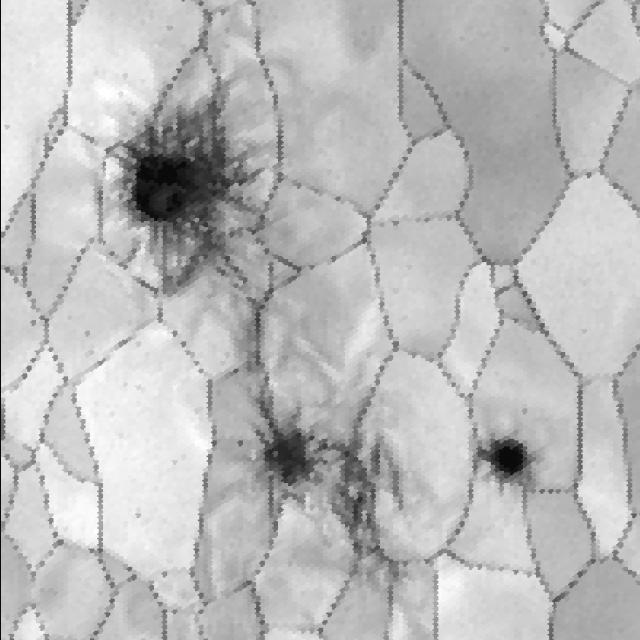good_void: (92, 68, 285, 323), (249, 384, 409, 583), (467, 436, 545, 508), (81, 325, 93, 341), (28, 315, 38, 331), (132, 507, 143, 519), (518, 405, 529, 417), (234, 436, 245, 447)
